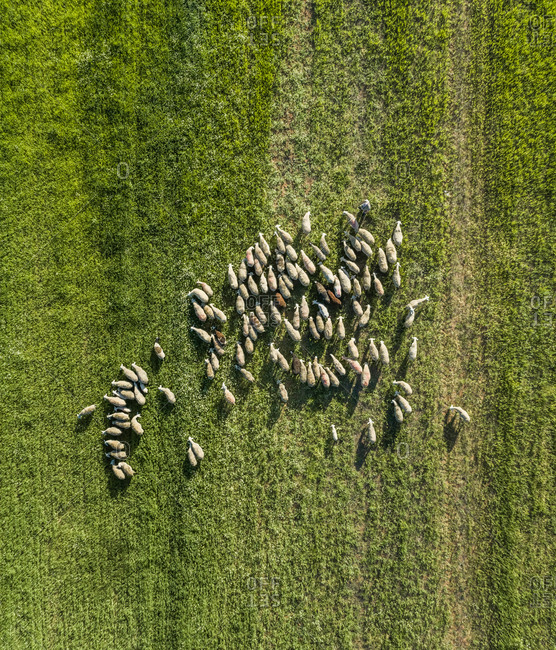sheep: (327, 267, 351, 297), (449, 401, 479, 424), (385, 218, 408, 246), (353, 264, 378, 289), (313, 279, 333, 308), (389, 398, 408, 428), (295, 210, 316, 237), (187, 296, 208, 322), (189, 320, 210, 346), (354, 303, 375, 329), (397, 393, 419, 417), (196, 275, 217, 300), (233, 342, 251, 371), (304, 315, 322, 344), (119, 358, 139, 384), (221, 380, 240, 407), (303, 358, 319, 390), (363, 415, 381, 443), (128, 360, 149, 384), (357, 361, 374, 390), (394, 379, 417, 400), (244, 272, 262, 298), (297, 252, 315, 278), (157, 383, 178, 405), (371, 249, 392, 271), (346, 292, 367, 314), (314, 364, 331, 391), (101, 434, 126, 452), (289, 351, 304, 381), (292, 262, 309, 288), (318, 230, 335, 256), (328, 350, 345, 376), (338, 268, 355, 294), (207, 333, 226, 356), (309, 240, 328, 263), (383, 236, 398, 265), (131, 382, 149, 406), (259, 262, 275, 289), (402, 301, 417, 329), (106, 385, 134, 400), (226, 262, 241, 290), (76, 400, 98, 419), (128, 412, 147, 434), (238, 364, 257, 386), (364, 335, 380, 361), (212, 302, 230, 325), (276, 381, 294, 404), (317, 258, 335, 281), (407, 291, 431, 308), (409, 335, 424, 362), (277, 275, 292, 302), (105, 412, 130, 428), (253, 268, 269, 293), (283, 317, 299, 342), (251, 313, 268, 336), (388, 262, 405, 285), (207, 348, 223, 372), (115, 458, 134, 478), (325, 423, 343, 444), (107, 460, 125, 481), (335, 315, 349, 342), (345, 232, 363, 253), (252, 241, 267, 266), (322, 318, 337, 343), (188, 438, 205, 460), (271, 231, 288, 253), (240, 333, 257, 355), (180, 445, 196, 468), (189, 288, 212, 304), (289, 305, 303, 331), (343, 354, 362, 373), (326, 285, 344, 305), (275, 227, 292, 248), (201, 300, 217, 322), (299, 360, 312, 387), (242, 243, 257, 266), (343, 257, 362, 275), (105, 408, 131, 421), (238, 255, 251, 281), (108, 378, 132, 392), (370, 269, 382, 297), (154, 342, 169, 364), (104, 449, 129, 462), (296, 295, 309, 320), (311, 301, 328, 320), (241, 311, 255, 334), (269, 303, 283, 326), (276, 351, 290, 374), (270, 342, 284, 365), (347, 336, 361, 359), (343, 240, 358, 261), (203, 358, 216, 382), (313, 311, 325, 337), (232, 292, 246, 314), (343, 212, 361, 229), (279, 273, 295, 292), (380, 340, 392, 365), (325, 364, 339, 385), (103, 423, 124, 436), (354, 225, 370, 242), (283, 264, 298, 282), (309, 352, 321, 374), (257, 234, 270, 254), (251, 257, 264, 276), (273, 251, 286, 270), (105, 394, 125, 406), (111, 404, 135, 414), (239, 281, 252, 299), (276, 292, 289, 310), (248, 323, 260, 342), (359, 241, 372, 258), (285, 243, 297, 261), (259, 304, 271, 321)
